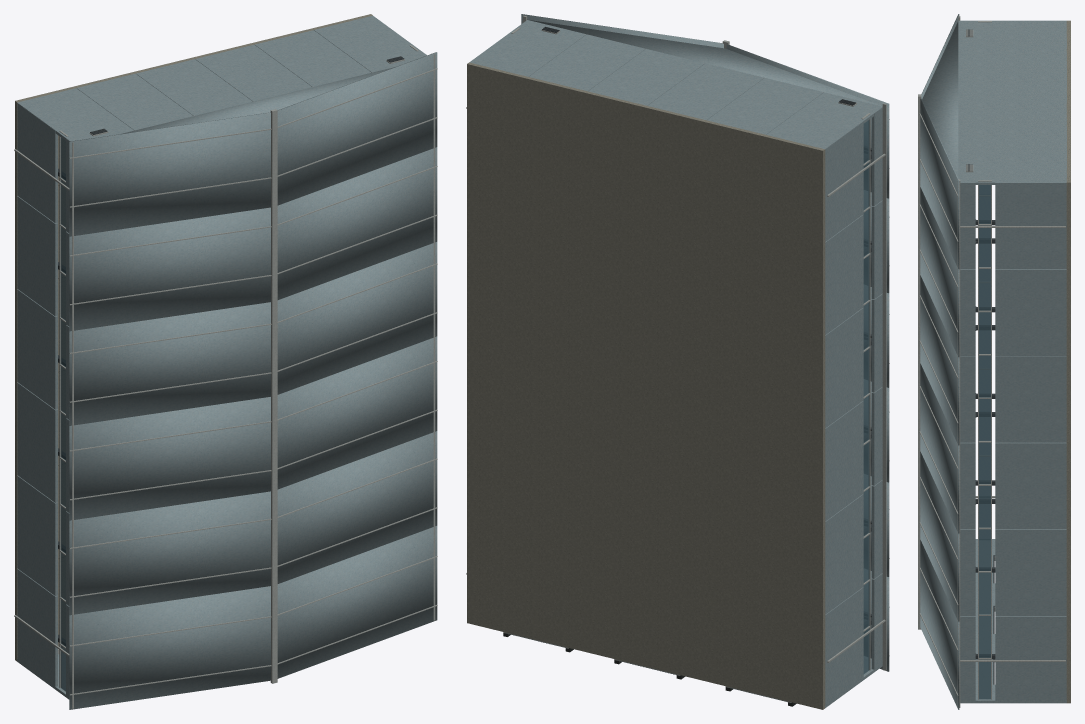
The model's file is PROJECT_Z_Harbor_Warehouse_Prefab.glb.
3 renders of one model, left to right at view 1: azimuth 30°, elevation 25°; view 2: azimuth 150°, elevation 25°; view 3: azimuth 270°, elevation 25°, orthographic. The views are drawn at different scales.
Visible parts, largest first — view 1: WH_Roof_West_Sheet_06, WH_Roof_West_Sheet_01, WH_Roof_West_Sheet_02, WH_Roof_West_Sheet_03, WH_Roof_West_Sheet_05, WH_Roof_West_Sheet_04, WH_Roof_East_Sheet_06, WH_Roof_East_Sheet_03, WH_Roof_East_Sheet_01, WH_Roof_East_Sheet_02, WH_Roof_East_Sheet_04, WH_Roof_East_Sheet_05 (+17 smaller); view 2: WH_Floor_Slab_24x36, WH_Rear_Gable_Cladding, WH_West_WallLower_02, WH_West_WallLower_05, WH_West_WallLower_03, WH_West_WallLower_04, WH_West_WallLower_06, WH_West_WallLower_01, WH_RearWall_Segment_3, WH_RearWall_Segment_4, WH_RearWall_Segment_5, WH_RearWall_Segment_2 (+16 smaller); view 3: WH_East_WallLower_02, WH_East_WallLower_03, WH_East_WallLower_04, WH_East_WallLower_05, WH_East_WallLower_06, WH_East_WallLower_01, WH_Roof_East_Sheet_06, WH_Roof_East_Sheet_01, WH_Roof_East_Sheet_03, WH_Roof_East_Sheet_04, WH_Roof_East_Sheet_05, WH_Roof_East_Sheet_02 (+44 smaller).
Part boxes in pixels (box(x1,y1,x2,y2)): WH_Roof_West_Sheet_06: box(69, 112, 270, 236); WH_Roof_West_Sheet_01: box(69, 586, 270, 709); WH_Roof_West_Sheet_02: box(69, 491, 270, 615); WH_Roof_West_Sheet_03: box(69, 397, 270, 520); WH_Roof_West_Sheet_05: box(69, 207, 270, 331); WH_Roof_West_Sheet_04: box(69, 302, 270, 425); WH_Roof_East_Sheet_06: box(277, 52, 437, 205); WH_Roof_East_Sheet_03: box(277, 336, 437, 489); WH_Roof_East_Sheet_01: box(277, 526, 437, 678); WH_Roof_East_Sheet_02: box(277, 431, 437, 583); WH_Roof_East_Sheet_04: box(277, 242, 437, 394); WH_Roof_East_Sheet_05: box(277, 147, 437, 299); WH_Floor_Slab_24x36: box(467, 62, 825, 709); WH_Rear_Gable_Cladding: box(527, 19, 881, 106); WH_West_WallLower_02: box(825, 494, 863, 614); WH_West_WallLower_05: box(825, 214, 863, 334); WH_West_WallLower_03: box(825, 401, 863, 521); WH_West_WallLower_04: box(825, 308, 863, 427); WH_West_WallLower_06: box(825, 121, 863, 241); WH_West_WallLower_01: box(825, 587, 863, 704); WH_RearWall_Segment_3: box(647, 63, 764, 120); WH_RearWall_Segment_4: box(588, 49, 704, 105); WH_RearWall_Segment_5: box(529, 34, 645, 91); WH_RearWall_Segment_2: box(707, 78, 823, 134); WH_East_WallLower_02: box(995, 529, 1066, 616); WH_East_WallLower_03: box(995, 442, 1066, 529); WH_East_WallLower_04: box(995, 356, 1066, 442); WH_East_WallLower_05: box(995, 269, 1066, 355); WH_East_WallLower_06: box(995, 182, 1066, 268); WH_East_WallLower_01: box(995, 616, 1066, 702); WH_Roof_East_Sheet_06: box(920, 98, 959, 269); WH_Roof_East_Sheet_01: box(920, 540, 959, 709); WH_Roof_East_Sheet_03: box(920, 363, 959, 533); WH_Roof_East_Sheet_04: box(920, 275, 959, 445); WH_Roof_East_Sheet_05: box(920, 187, 959, 357); WH_Roof_East_Sheet_02: box(920, 451, 959, 621).
Bounding box in the file's own units: 24.77 × 36.88 × 9.58.
8 materials, 8 textured.
